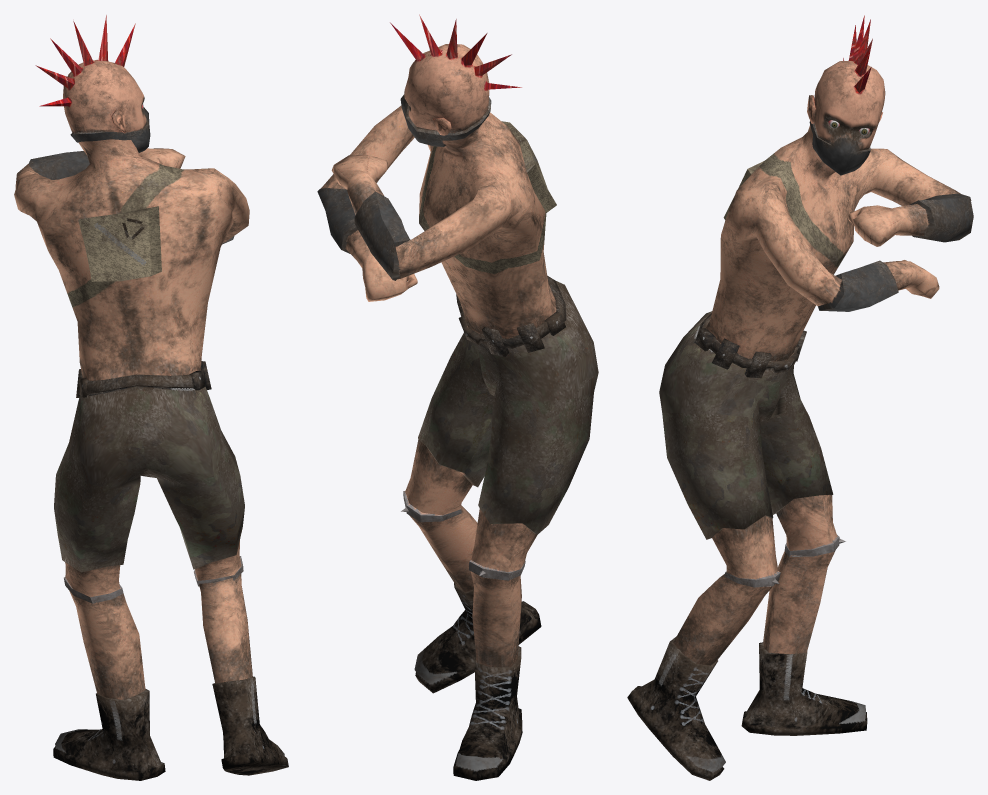
The model's file is Anim_arma_c_npc2.0023.obj.
3 renders of one model, left to right at view 1: azimuth 30°, elevation 25°; view 2: azimuth 150°, elevation 25°; view 3: azimuth 270°, elevation 25°, orthographic. The views are drawn at different scales.
Visible parts, largest first — view 1: polySurface1; view 2: polySurface1; view 3: polySurface1.
Boxes of the visible parts, x1=… form: polySurface1: x1=14, y1=15, x2=288, y2=780; polySurface1: x1=317, y1=14, x2=598, y2=780; polySurface1: x1=627, y1=15, x2=973, y2=780.
Bounding box in the file's own units: 2.93 × 9.72 × 4.3.
